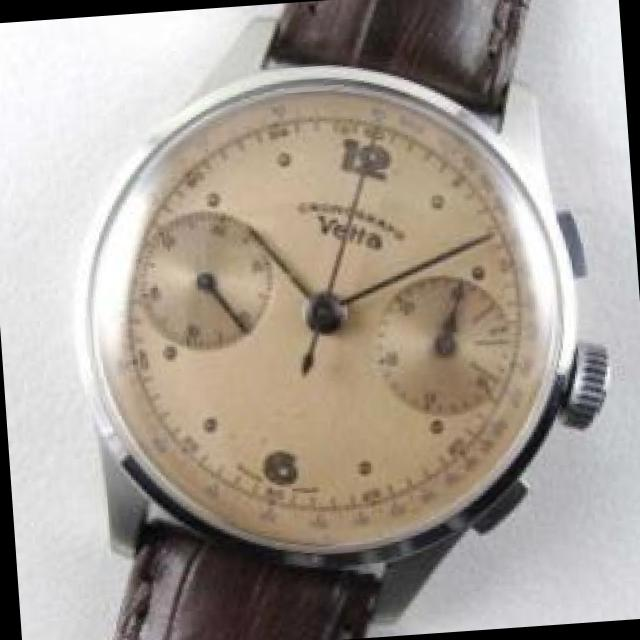saat: (15, 0, 636, 640)
